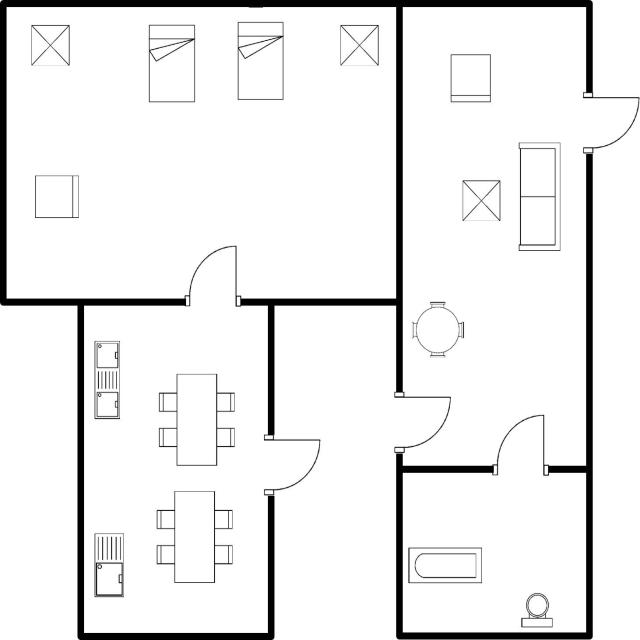bed: (144, 20, 201, 107), (232, 16, 288, 104)
coffee_table: (336, 20, 382, 72), (27, 20, 73, 71), (458, 176, 506, 224)
dining_table: (152, 369, 240, 470), (151, 485, 236, 587)
large_sink: (516, 588, 556, 630)
large_sofa: (514, 138, 564, 257)
round_table: (408, 297, 467, 359)
sink: (91, 529, 128, 600)
small_sofa: (446, 48, 496, 108), (30, 170, 83, 224)
tub: (405, 542, 489, 587)
twin_sink: (89, 336, 124, 423)
